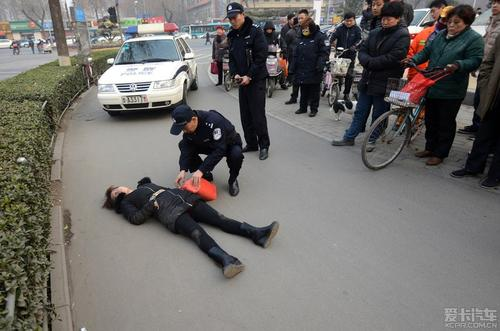10+: (7, 1, 500, 283)
down: (99, 173, 282, 281)
